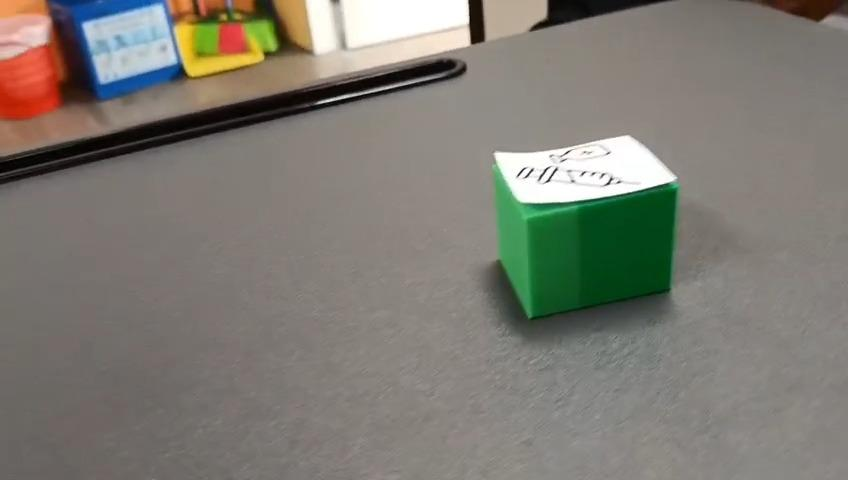antiseptic cream: (490, 132, 680, 320)
